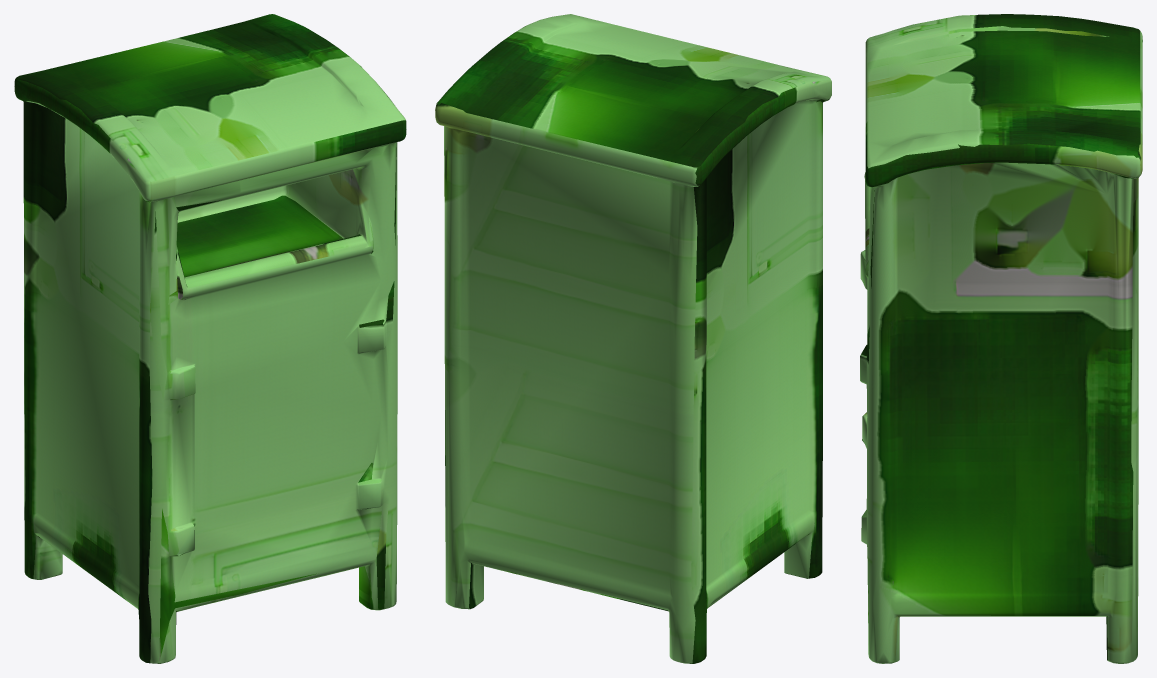
File: ClothingBIn.obj
The picture shows the model from 3 angles, left to right: view 1: azimuth 30°, elevation 25°; view 2: azimuth 150°, elevation 25°; view 3: azimuth 270°, elevation 25°; orthographic projection. The views are drawn at different scales.
Parts seen in each view (by area): view 1: Bodygeom1; view 2: Bodygeom1; view 3: Bodygeom1.
Part boxes in pixels (bbox=[...]): Bodygeom1: bbox=[14, 14, 406, 663]; Bodygeom1: bbox=[435, 14, 831, 663]; Bodygeom1: bbox=[860, 14, 1142, 663].
Size of the model in its own units: 4.3 by 8 by 3.91.
1 material, 1 textured.
